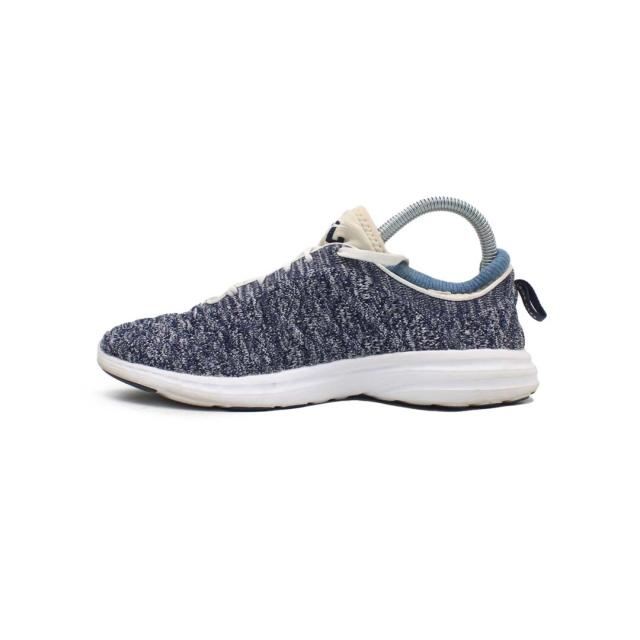heel: (461, 247, 544, 348)
midsole: (101, 344, 537, 410)
uppersole: (104, 206, 466, 376)
